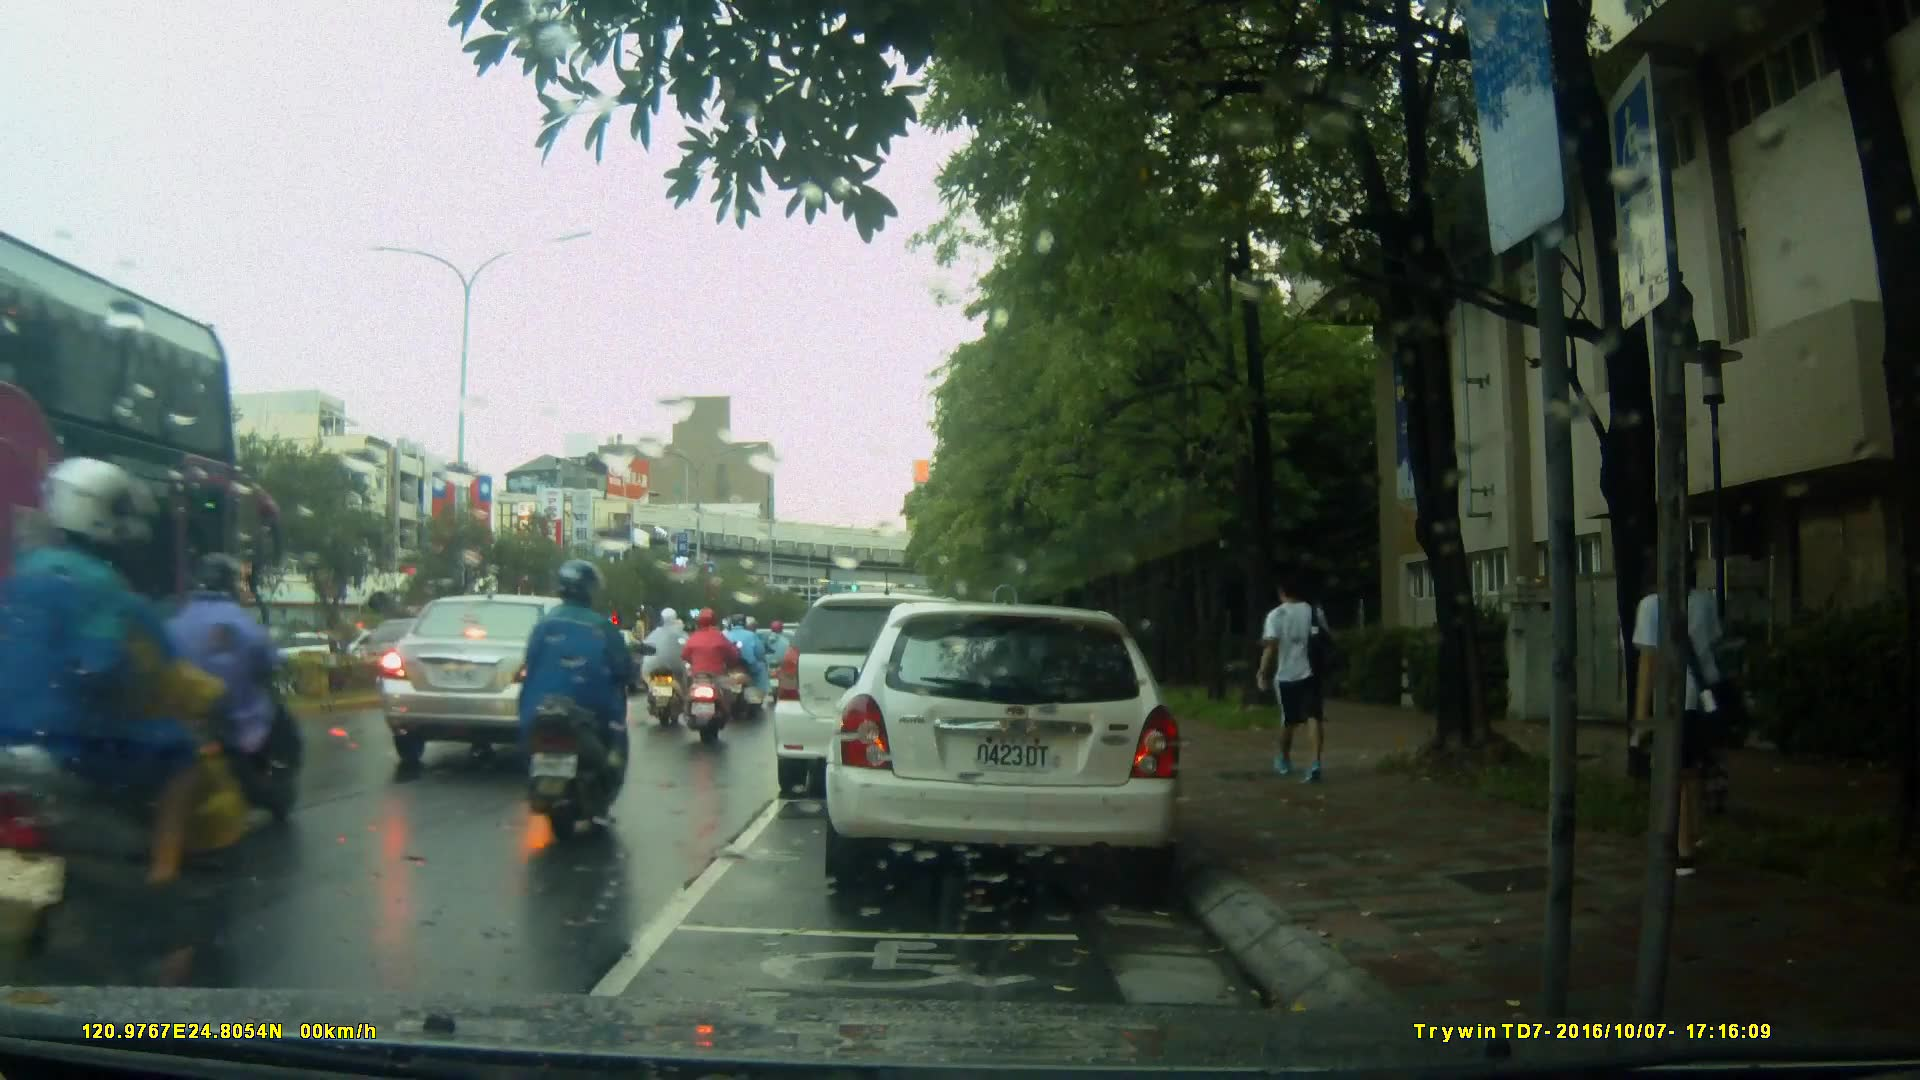pedestrian: (129, 553, 303, 831), (1613, 533, 1733, 887), (1257, 558, 1355, 800)
rider: (1, 460, 277, 1053), (513, 559, 637, 842), (677, 605, 741, 748), (638, 603, 693, 731), (720, 612, 768, 713), (760, 618, 795, 710)
vehicle: (10, 215, 265, 904), (811, 604, 1188, 882), (774, 595, 995, 802), (382, 591, 640, 768)
